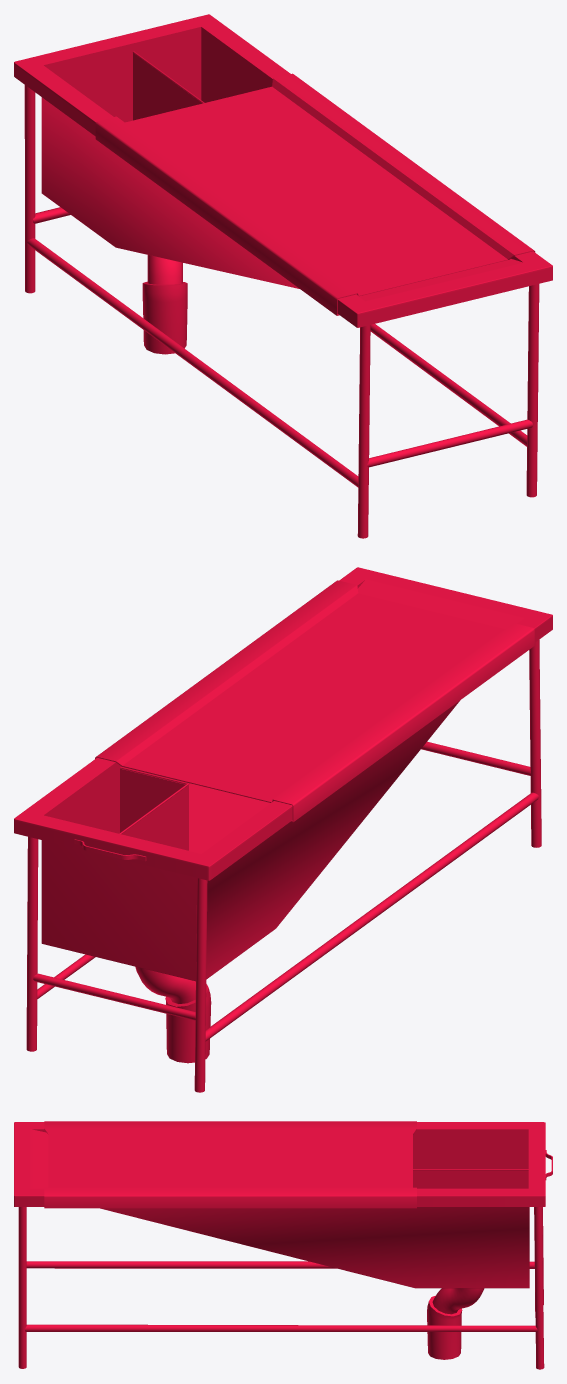
The model's file is uploads_files_2270591_fbx.FBX.
3 renders of one model, top to bottom at view 1: azimuth 30°, elevation 25°; view 2: azimuth 150°, elevation 25°; view 3: azimuth 270°, elevation 25°, orthographic. The views are drawn at different scales.
Visible parts, largest first — view 1: top, mainbody00, footer03, pipe001, mainbody01, footer06, footer04, footer02, footer01, footer05; view 2: mainbody00, top, footer03, pipe001, footer02, footer00, mainbody01, footer06, mainbody02, footer07, footer05; view 3: mainbody00, top, footer01, pipe001, footer03, mainbody01, footer04, footer00.
Part boxes in pixels (<box>): top: <box>95,73,535,315</box>; mainbody00: <box>14,14,552,327</box>; footer03: <box>27,238,358,487</box>; pipe001: <box>142,255,187,354</box>; mainbody01: <box>133,53,202,120</box>; footer06: <box>357,325,370,538</box>; footer04: <box>526,284,539,497</box>; footer02: <box>24,85,35,293</box>; footer01: <box>370,324,527,446</box>; footer05: <box>367,419,532,467</box>; mainbody00: <box>14,567,552,981</box>; top: <box>95,580,534,822</box>; footer03: <box>205,792,539,1041</box>; pipe001: <box>135,966,211,1063</box>; footer02: <box>194,878,207,1092</box>; footer00: <box>26,836,38,1051</box>; mainbody01: <box>122,785,188,850</box>; footer06: <box>529,639,541,847</box>; mainbody02: <box>120,768,185,832</box>; footer07: <box>33,973,195,1020</box>; footer05: <box>421,741,530,775</box>; mainbody00: <box>14,1122,545,1288</box>; top: <box>44,1121,416,1208</box>; footer01: <box>25,1324,537,1331</box>; pipe001: <box>427,1288,484,1359</box>; footer03: <box>26,1261,534,1268</box>; mainbody01: <box>413,1170,528,1188</box>; footer04: <box>18,1207,26,1368</box>; footer00: <box>534,1207,544,1369</box>.
Bounding box in the file's own units: 35.95 × 44.7 × 109.
